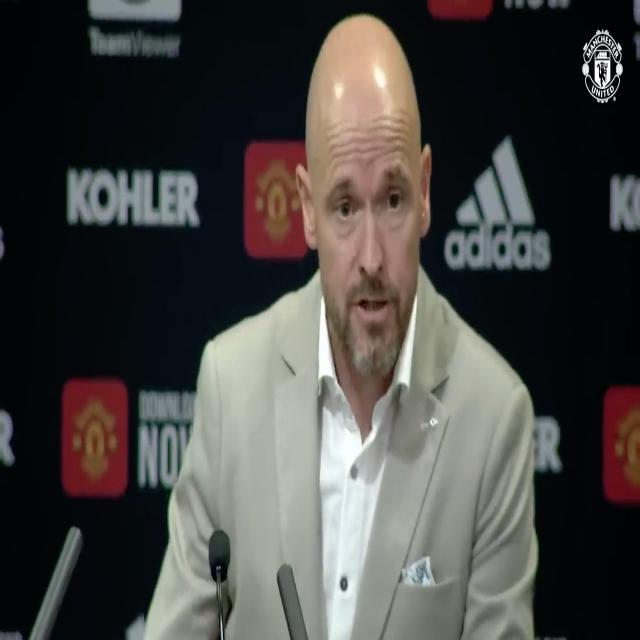Adidas: (445, 135, 550, 272)
Kohler: (68, 166, 198, 228)
TeamViewer: (88, 0, 181, 57)
